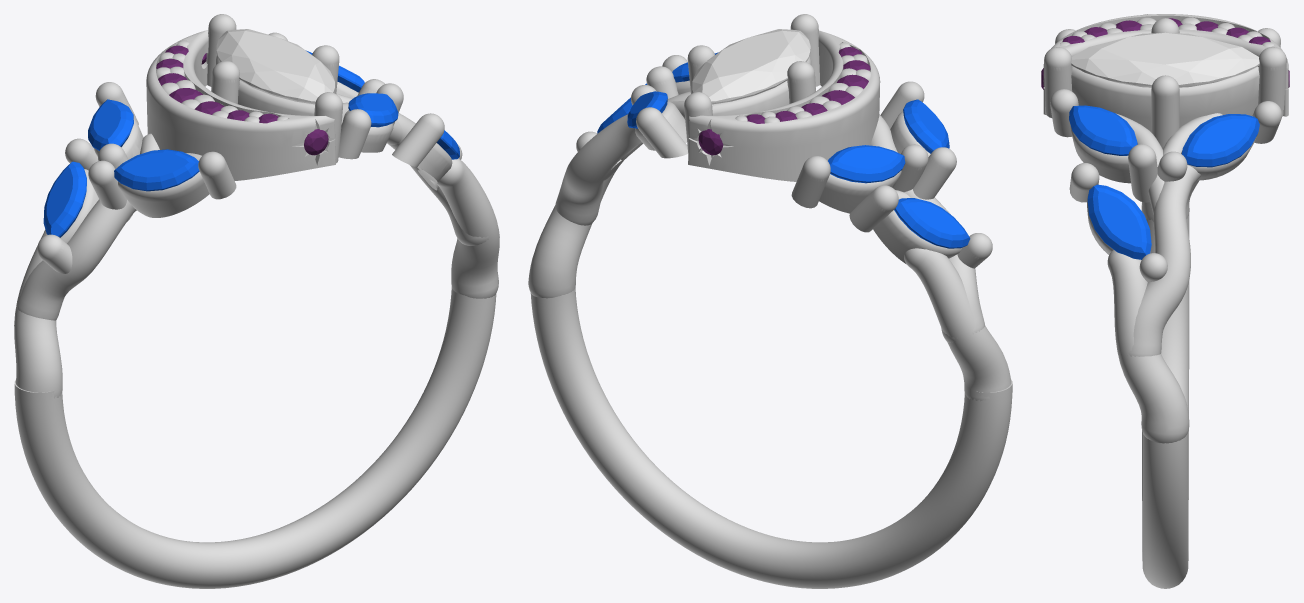
File: AlexV5eng.glb
3 renders of one model, left to right at view 1: azimuth 30°, elevation 25°; view 2: azimuth 150°, elevation 25°; view 3: azimuth 270°, elevation 25°, orthographic.
Parts seen in each view (by area): view 1: V5 Alex PT for 3d model, Alex dia for 3d model, Alex sapph for 3d model.004, Alex sapph for 3d model, Alex alexandrite for 3d model, Alex sapph for 3d model.002, Alex sapph for 3d model.005; view 2: V5 Alex PT for 3d model, Alex dia for 3d model, Alex sapph for 3d model, Alex sapph for 3d model.002, Alex alexandrite for 3d model, Alex sapph for 3d model.004, Alex sapph for 3d model.001; view 3: V5 Alex PT for 3d model, Alex dia for 3d model, Alex sapph for 3d model.003, Alex sapph for 3d model.001, Alex sapph for 3d model.005, Alex alexandrite for 3d model.
Boxes of the visible parts, x1,y1,x2,y2 form: V5 Alex PT for 3d model: [14, 14, 499, 588]; Alex dia for 3d model: [216, 29, 334, 104]; Alex sapph for 3d model.004: [114, 149, 199, 191]; Alex sapph for 3d model: [43, 161, 86, 237]; Alex alexandrite for 3d model: [156, 45, 328, 155]; Alex sapph for 3d model.002: [88, 99, 133, 150]; Alex sapph for 3d model.005: [348, 93, 398, 127]; V5 Alex PT for 3d model: [528, 14, 1012, 588]; Alex dia for 3d model: [692, 29, 810, 104]; Alex sapph for 3d model: [894, 198, 970, 248]; Alex sapph for 3d model.002: [828, 145, 905, 183]; Alex alexandrite for 3d model: [698, 47, 870, 155]; Alex sapph for 3d model.004: [903, 99, 949, 153]; Alex sapph for 3d model.001: [627, 91, 667, 128]; V5 Alex PT for 3d model: [1043, 14, 1288, 588]; Alex dia for 3d model: [1071, 32, 1259, 87]; Alex sapph for 3d model.003: [1087, 184, 1151, 259]; Alex sapph for 3d model.001: [1181, 114, 1259, 167]; Alex sapph for 3d model.005: [1069, 105, 1137, 155]; Alex alexandrite for 3d model: [1041, 18, 1289, 89].
Size of the model in its own units: 19.68 by 20.68 by 8.81.
